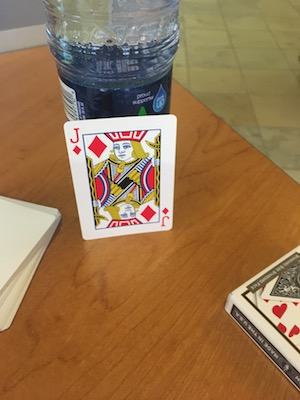JackOfDiamonds: (61, 108, 182, 251)
